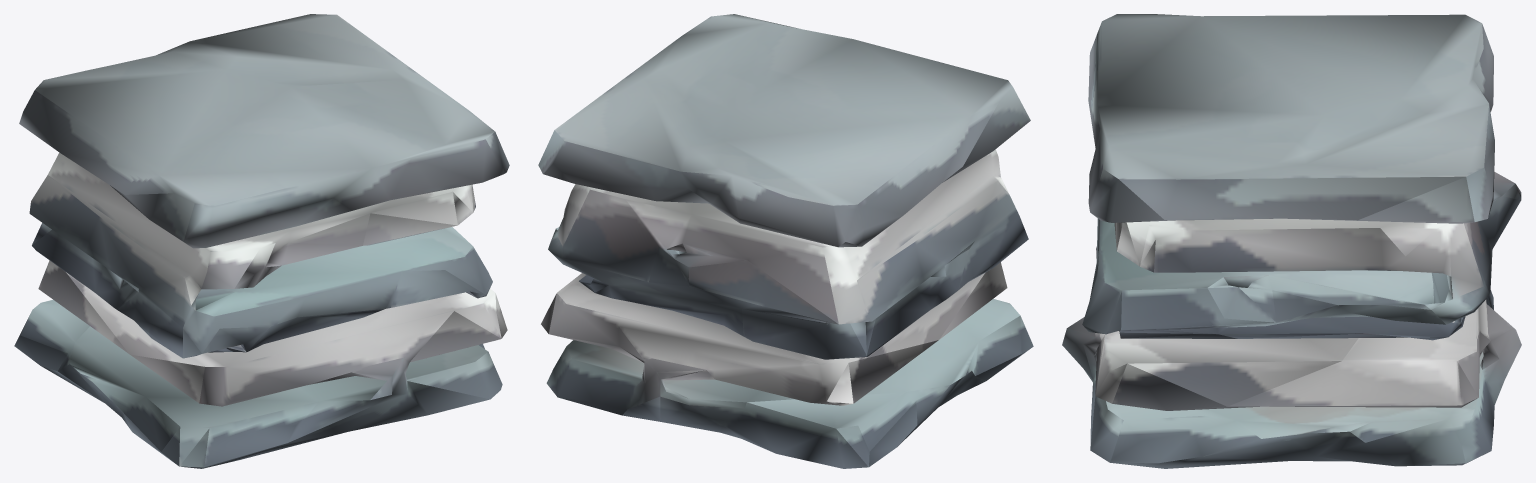
The model's file is slate-stack.glb.
3 views of the same model, side by side, from view 1: azimuth 30°, elevation 25°; view 2: azimuth 150°, elevation 25°; view 3: azimuth 270°, elevation 25° (orthographic). The views are drawn at different scales.
Parts seen in each view (by area): view 1: geometry_0; view 2: geometry_0; view 3: geometry_0.
Part boxes in pixels (x1,y1,x2,y2): geometry_0: [14, 14, 509, 468]; geometry_0: [538, 14, 1033, 468]; geometry_0: [1062, 14, 1521, 468].
Bounding box in the file's own units: 0.9976 × 0.671 × 0.9684.
Materials: 1 (1 with a texture image).
